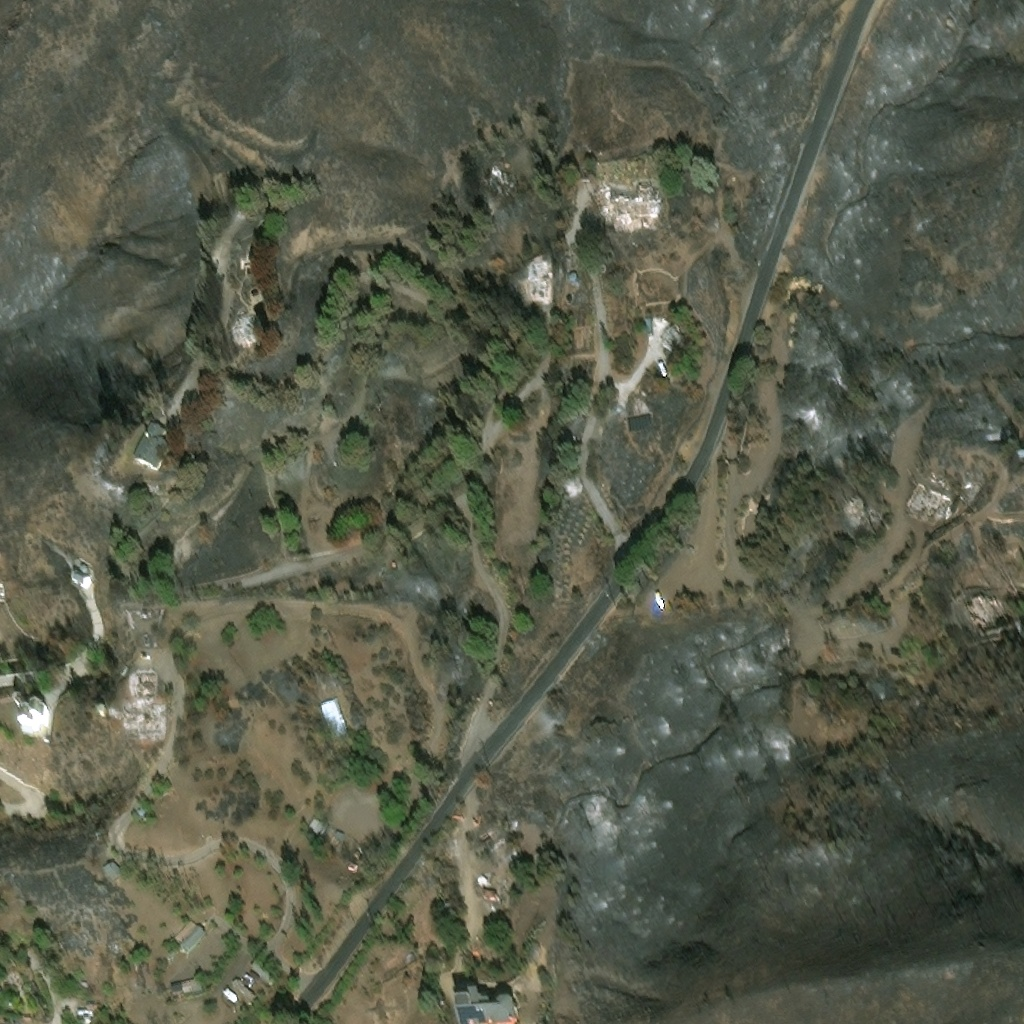0 no-damage: (453, 985, 517, 1023), (131, 421, 175, 474), (315, 691, 347, 737), (13, 692, 44, 730), (170, 914, 204, 947), (168, 977, 200, 996), (102, 858, 124, 883), (305, 813, 327, 835), (67, 558, 87, 579), (74, 1003, 93, 1014), (479, 887, 499, 897), (477, 870, 489, 886), (441, 899, 455, 909), (332, 827, 343, 837)
1 minor-damage: (568, 254, 577, 265)
3 destroyed: (589, 186, 662, 227), (902, 475, 945, 514), (121, 697, 165, 734), (964, 582, 1006, 618), (519, 254, 550, 300), (228, 311, 261, 347), (486, 161, 514, 190), (131, 668, 154, 696), (660, 322, 685, 346), (961, 478, 978, 498), (924, 465, 940, 480), (1009, 608, 1019, 615)
4 un-classified: (1012, 445, 1023, 461)
